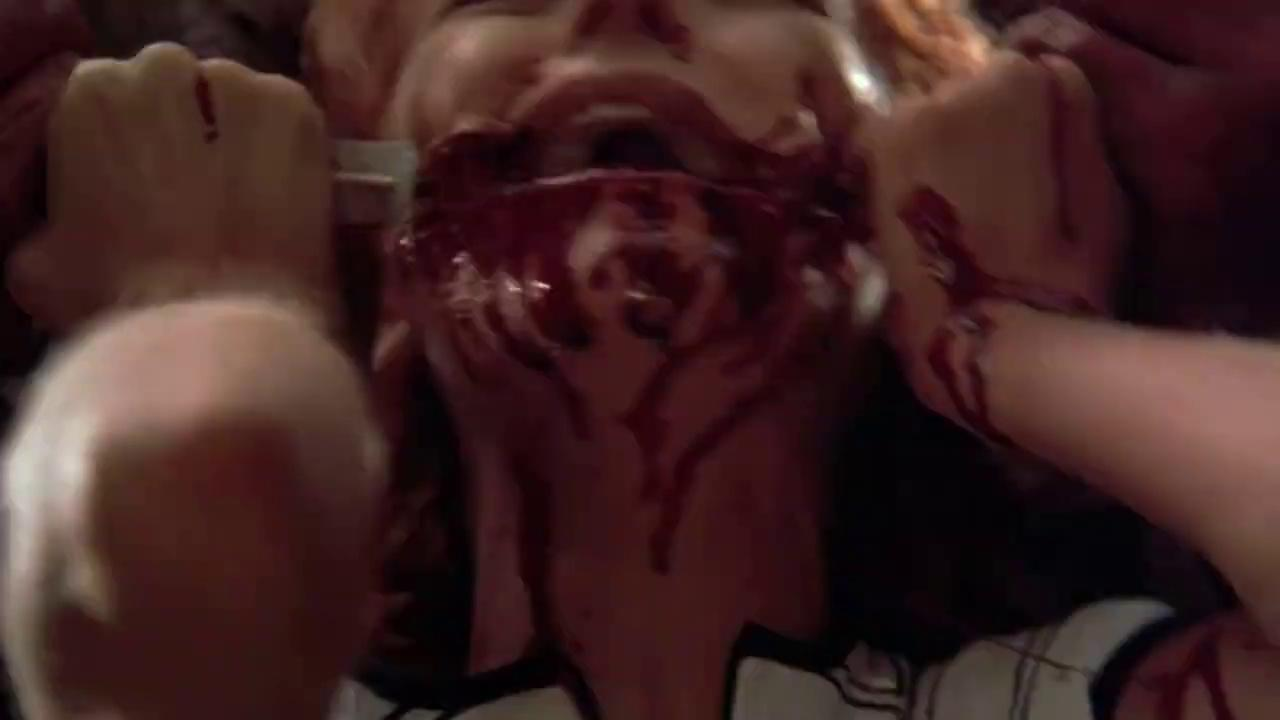Fire: (413, 117, 886, 578), (890, 59, 1118, 443)
